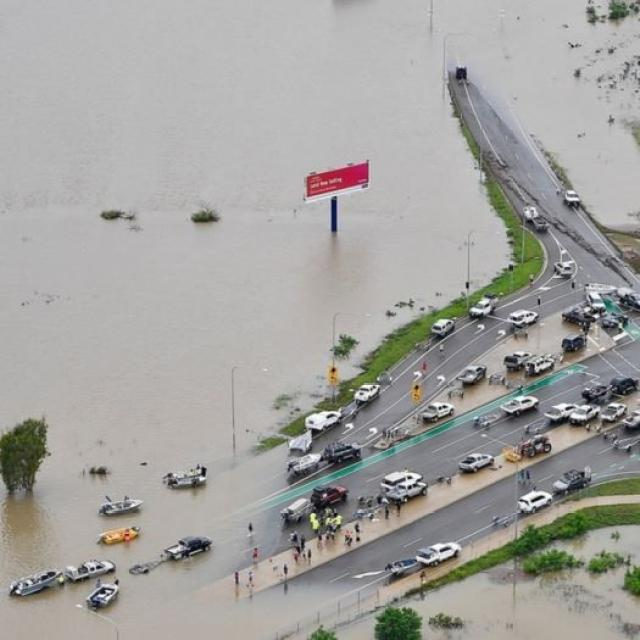flooded_areas: (0, 2, 635, 348), (0, 234, 323, 635)
